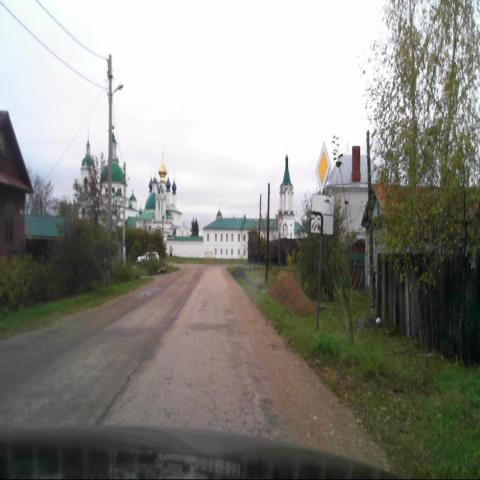8_13: (311, 194, 334, 236)
